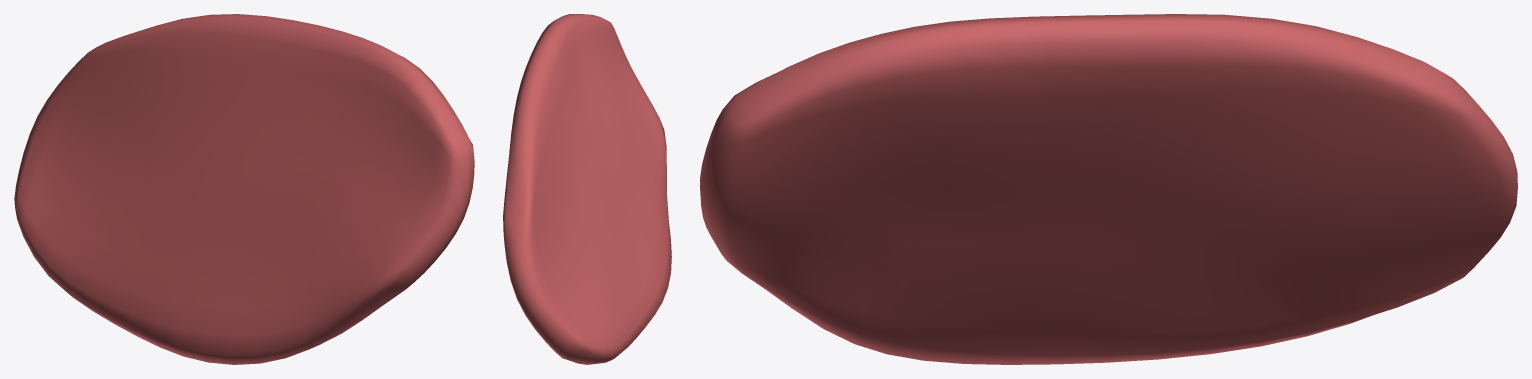
3 renders of one model, left to right at view 1: azimuth 30°, elevation 25°; view 2: azimuth 150°, elevation 25°; view 3: azimuth 270°, elevation 25°, orthographic. The views are drawn at different scales.
Visible parts, largest first — view 1: 右侧鹅足囊; view 2: 右侧鹅足囊; view 3: 右侧鹅足囊.
Part boxes in pixels (left/top/right/bottom): 右侧鹅足囊: left=14, top=14, right=474, bottom=364; 右侧鹅足囊: left=503, top=14, right=671, bottom=364; 右侧鹅足囊: left=700, top=14, right=1517, bottom=364.
Bounding box in the file's own units: 0.0206 × 0.0253 × 0.0414.
